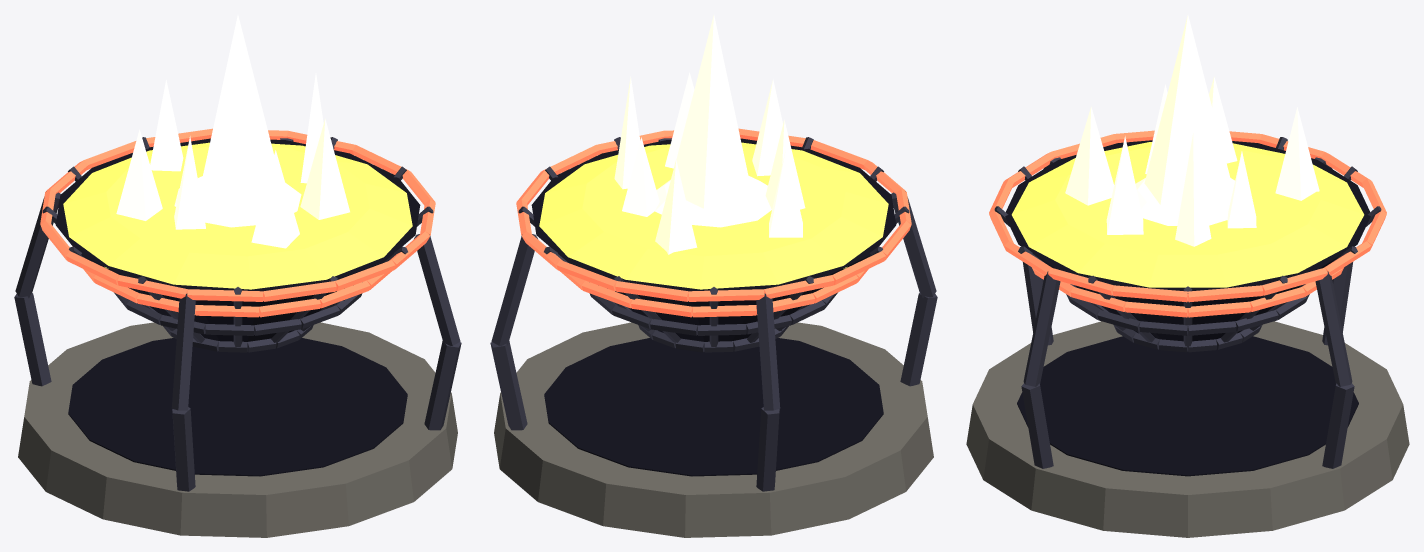
File: firstflame_cradle_lit.glb
The picture shows the model from 3 angles, left to right: view 1: azimuth 30°, elevation 25°; view 2: azimuth 150°, elevation 25°; view 3: azimuth 270°, elevation 25°; orthographic projection.
Visible parts, largest first — view 1: ink_d40, bone_d50, ember_d10_glow, kindle_l20_glow, ink_l15, coal_glow, kindle_l10_glow; view 2: ink_d40, bone_d50, ember_d10_glow, kindle_l20_glow, ink_l15, coal_glow, kindle_l10_glow; view 3: ink_d40, bone_d50, ember_d10_glow, kindle_l20_glow, ink_l15, coal_glow, kindle_l10_glow.
Boxes of the visible parts, x1,y1,x2,y2 form: ink_d40: [55, 138, 420, 476]; bone_d50: [18, 322, 457, 537]; ember_d10_glow: [63, 142, 412, 289]; kindle_l20_glow: [116, 15, 349, 248]; ink_l15: [14, 137, 461, 491]; coal_glow: [40, 128, 435, 317]; kindle_l10_glow: [174, 176, 301, 227]; ink_d40: [531, 138, 896, 476]; bone_d50: [494, 322, 933, 537]; ember_d10_glow: [539, 142, 888, 289]; kindle_l20_glow: [614, 15, 805, 254]; ink_l15: [490, 137, 937, 491]; coal_glow: [516, 128, 911, 317]; kindle_l10_glow: [655, 175, 771, 227]; ink_d40: [1005, 140, 1370, 476]; bone_d50: [966, 321, 1409, 537]; ember_d10_glow: [1011, 142, 1364, 287]; kindle_l20_glow: [1065, 15, 1319, 246]; ink_l15: [994, 137, 1381, 468]; coal_glow: [989, 130, 1386, 317]; kindle_l10_glow: [1135, 178, 1234, 225].
Size of the model in its own units: 3.5 by 3.75 by 3.5.
